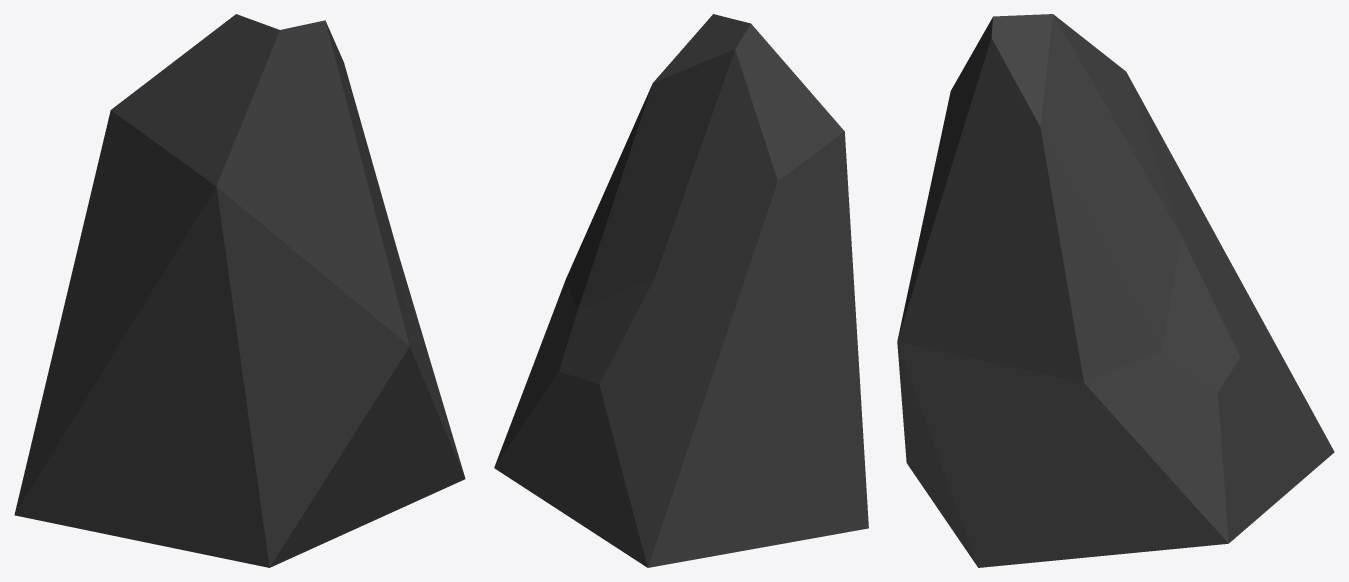
Rendered from Rock type One.fbx.
3 views of the same model, side by side, from view 1: azimuth 30°, elevation 25°; view 2: azimuth 150°, elevation 25°; view 3: azimuth 270°, elevation 25° (orthographic). The views are drawn at different scales.
Parts seen in each view (by area): view 1: Rock; view 2: Rock; view 3: Rock.
Part boxes in pixels (x1=…): Rock: x1=14, y1=14, x2=465, y2=567; Rock: x1=494, y1=14, x2=868, y2=567; Rock: x1=897, y1=14, x2=1334, y2=567.
Size of the model in its own units: 195 by 203 by 242.
